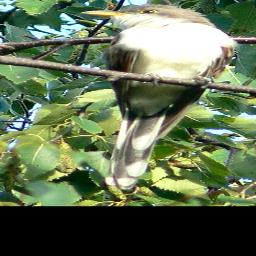Cuckoo: (79, 2, 236, 191)
